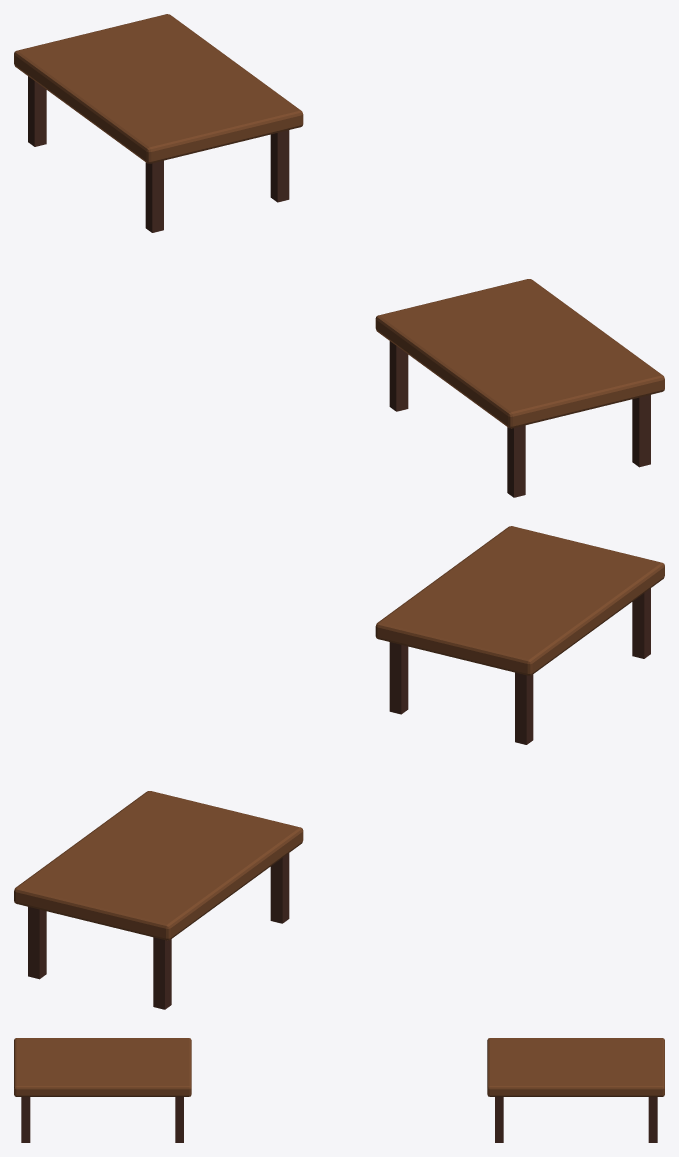
File: LoungeTables.fbx
The picture shows the model from 3 angles, top to bottom: view 1: azimuth 30°, elevation 25°; view 2: azimuth 150°, elevation 25°; view 3: azimuth 270°, elevation 25°; orthographic projection. The views are drawn at different scales.
Parts seen in each view (by area): view 1: LoungeTable0.001; view 2: LoungeTable0.001; view 3: LoungeTable0.001.
Part boxes in pixels (<box>): LoungeTable0.001: <box>14,14,664,497</box>; LoungeTable0.001: <box>14,526,664,1009</box>; LoungeTable0.001: <box>14,1038,664,1142</box>.
Size of the model in its own units: 400 by 220 by 2200.
